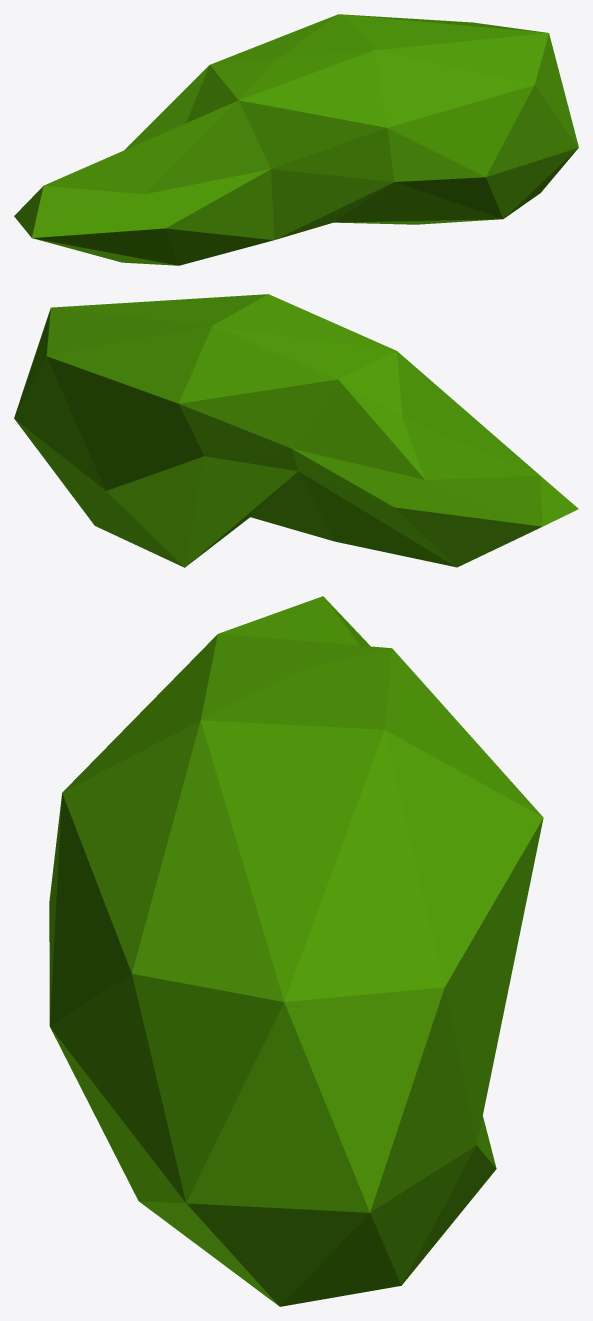
Rendered from Vegetation_Modular_New_Tree_Leaf_Bunch_07.FBX.
3 renders of one model, top to bottom at view 1: azimuth 30°, elevation 25°; view 2: azimuth 150°, elevation 25°; view 3: azimuth 270°, elevation 25°, orthographic. The views are drawn at different scales.
Parts seen in each view (by area): view 1: Vegetation_Modular_New_Tree_Leaf_Bunch_07; view 2: Vegetation_Modular_New_Tree_Leaf_Bunch_07; view 3: Vegetation_Modular_New_Tree_Leaf_Bunch_07.
Boxes of the visible parts, x1,y1,x2,y2 form: Vegetation_Modular_New_Tree_Leaf_Bunch_07: [14, 14, 578, 265]; Vegetation_Modular_New_Tree_Leaf_Bunch_07: [14, 294, 578, 567]; Vegetation_Modular_New_Tree_Leaf_Bunch_07: [49, 596, 543, 1306].
Size of the model in its own units: 3190 by 1269 by 1274.
